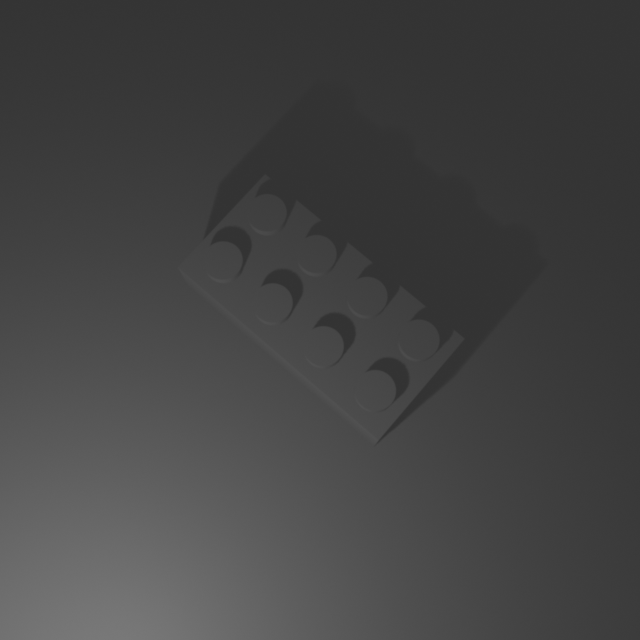lego_2x4: (176, 169, 467, 447)
